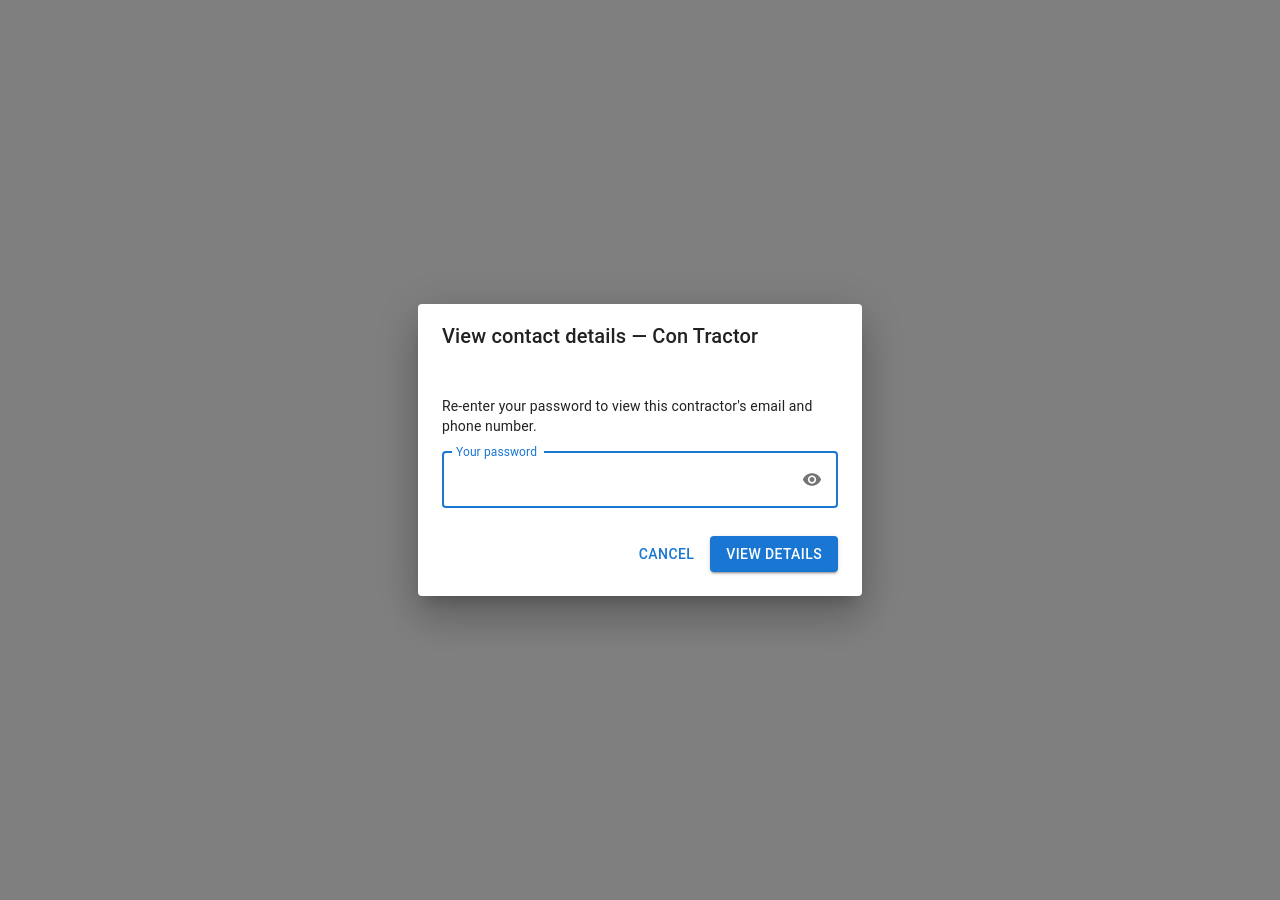
Test: RevealEmailDialog › shows the revealed email and phone after a successful reveal
The image size is (1280, 900).
Type "my-password" into the password field labelled "Your password".
click(616, 480); type("my-password")  # box [442, 452, 789, 508]
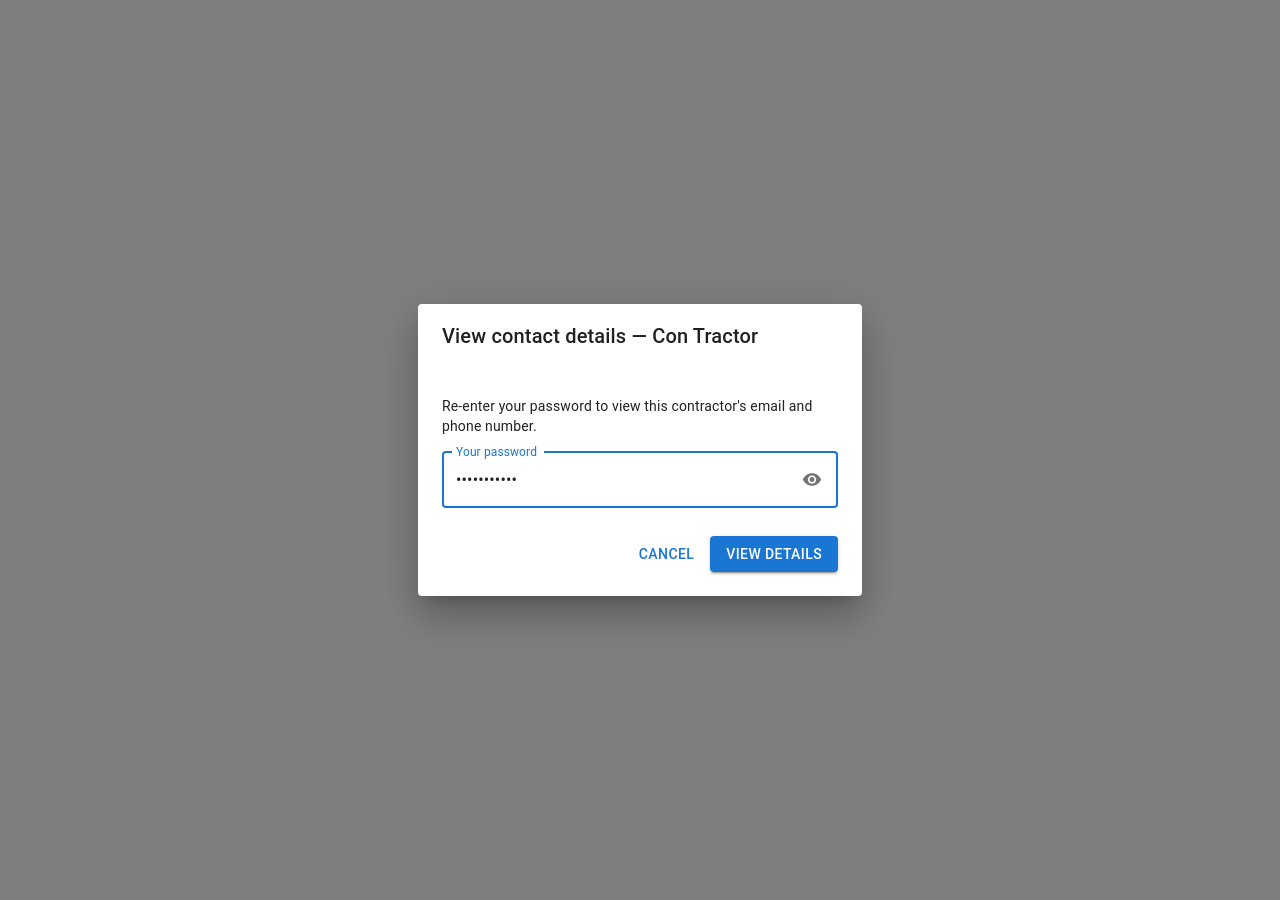
Click the button "View Details".
click(774, 554)  # box [710, 536, 838, 572]
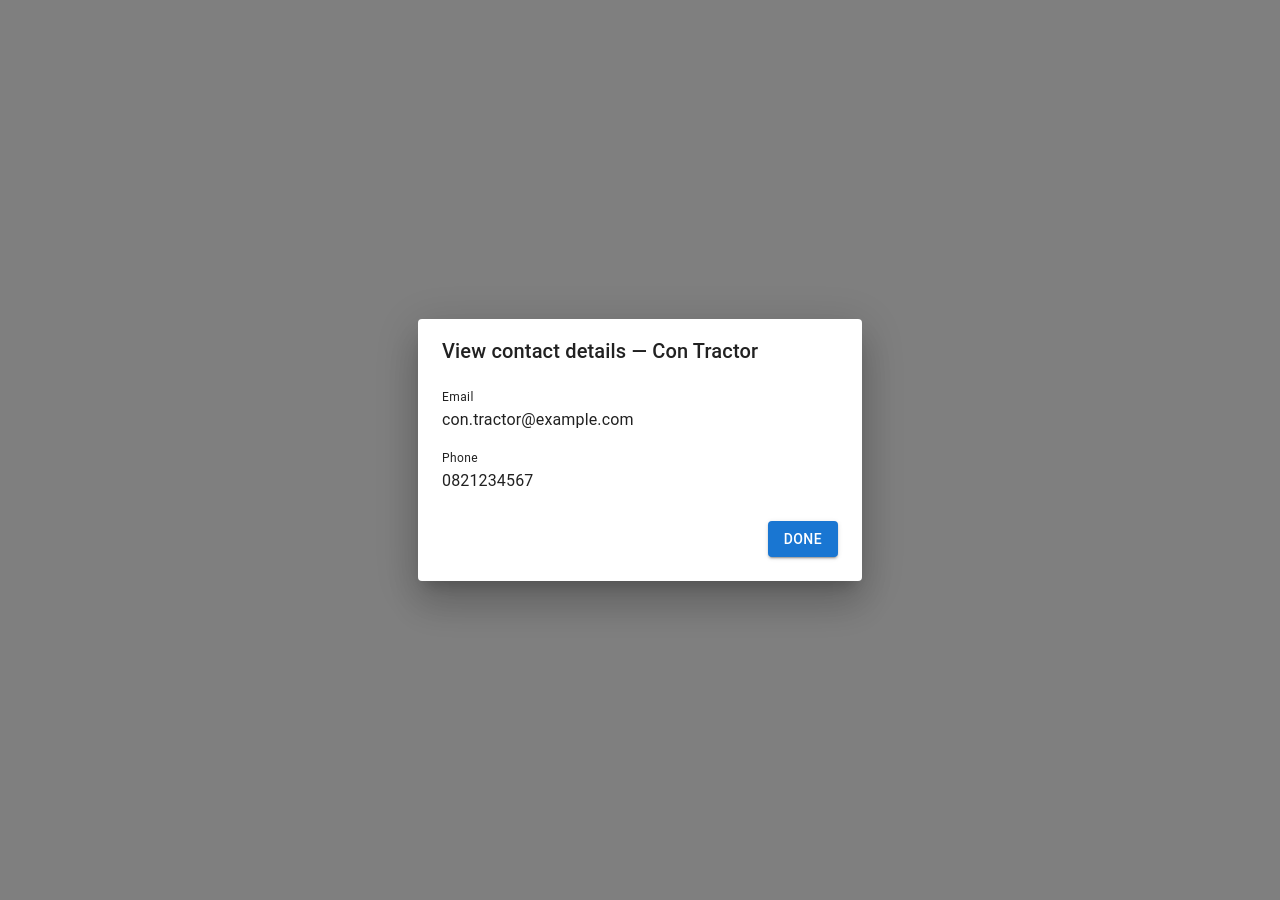
Expected: the text "con.tractor@example.com" is shown, [442, 410, 634, 429]
Expected: the text "0821234567" is shown, [442, 471, 533, 490]
